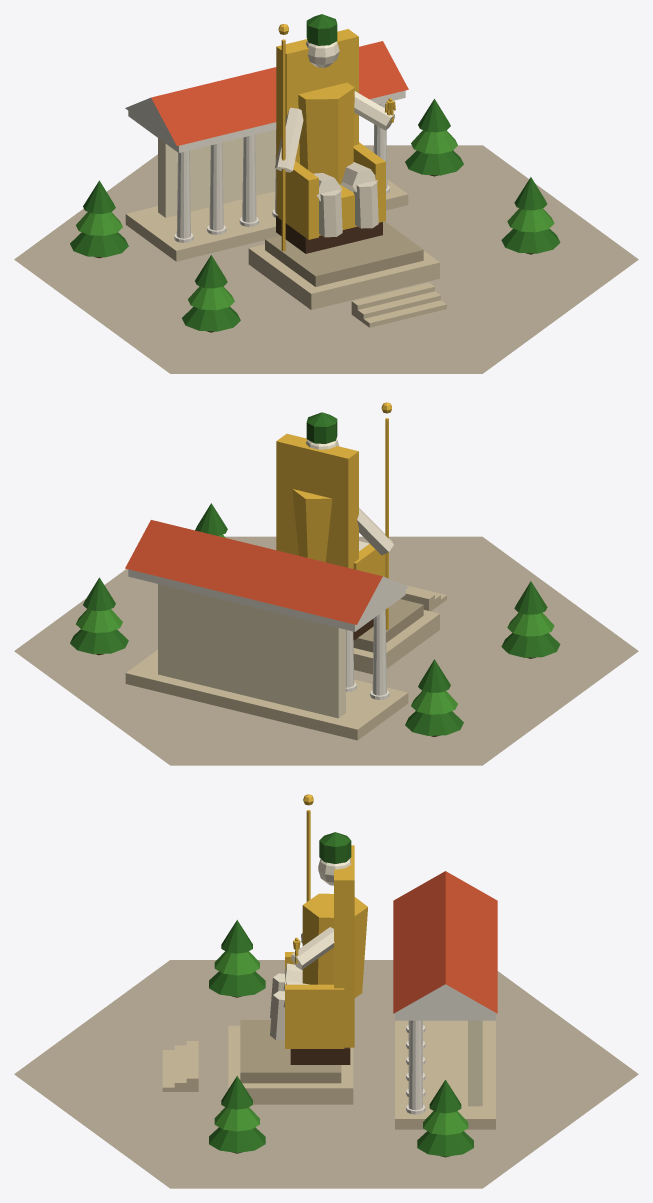
File: wonder_statue_of_zeus.fbx
3 renders of one model, top to bottom at view 1: azimuth 30°, elevation 25°; view 2: azimuth 150°, elevation 25°; view 3: azimuth 270°, elevation 25°, orthographic.
Parts seen in each view (by area): view 1: wonder_statue_of_zeus; view 2: wonder_statue_of_zeus; view 3: wonder_statue_of_zeus.
Boxes of the visible parts, <box> form: wonder_statue_of_zeus: <box>14,14,638,373</box>; wonder_statue_of_zeus: <box>14,402,638,765</box>; wonder_statue_of_zeus: <box>14,794,638,1188</box>.
Size of the model in its own units: 182 by 94.4 by 210.
